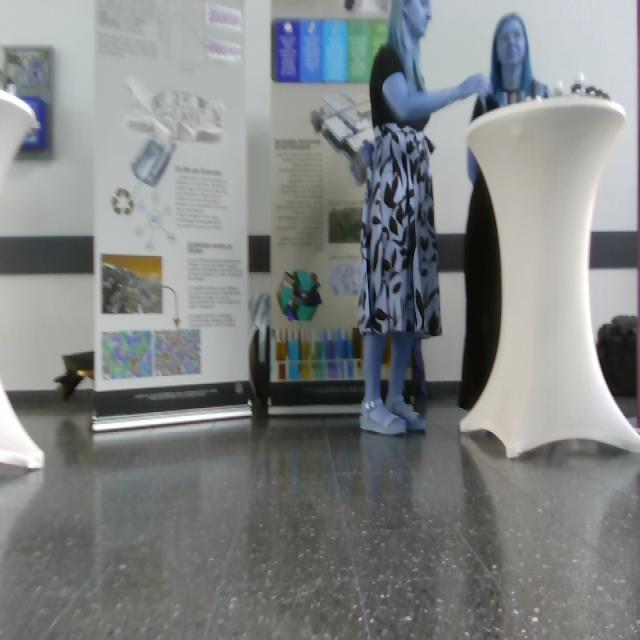door: (254, 1, 639, 410)
light bulb: (1, 85, 46, 473)
person: (356, 1, 494, 437)
pillar: (458, 93, 640, 460)
tiled floor: (2, 385, 639, 638)
